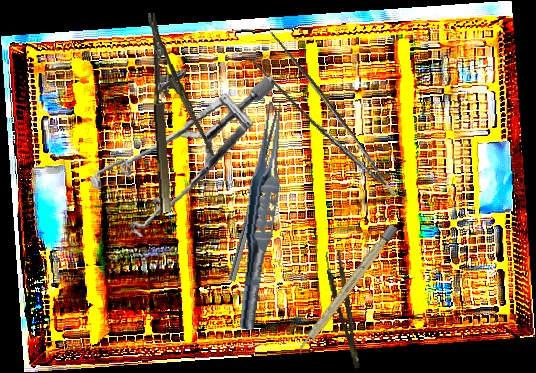Needle Holder: (147, 11, 199, 213)
Scalpel Handle: (294, 223, 399, 357)
Spatula Surgical: (221, 101, 283, 282)
Speculum: (80, 76, 289, 242)
Surgical Spoon: (150, 45, 218, 157)
Tissue Forceps: (243, 26, 398, 217), (233, 98, 290, 332), (323, 249, 362, 371)
